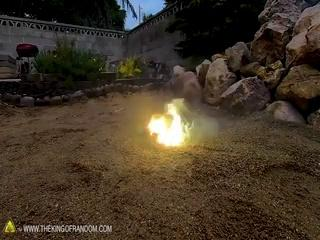Fire: (143, 90, 184, 148)
